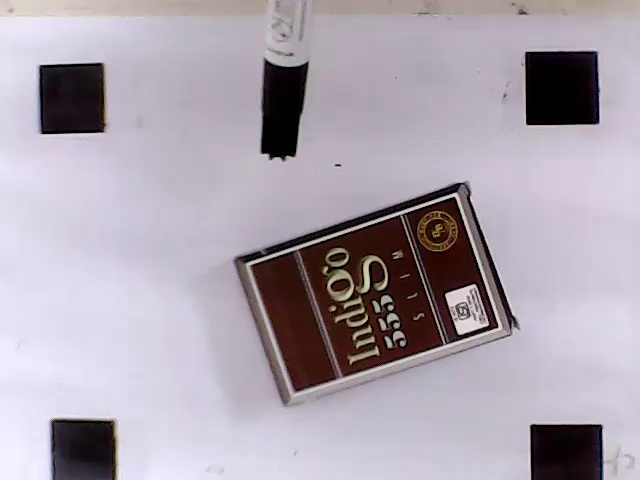BEX: (248, 195, 500, 394)
